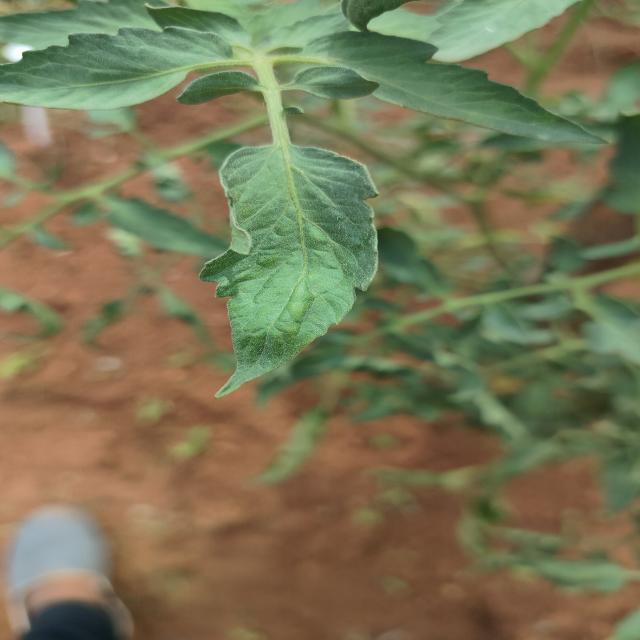tomato_healthy: (213, 147, 383, 400), (298, 32, 618, 142), (0, 27, 247, 112)
